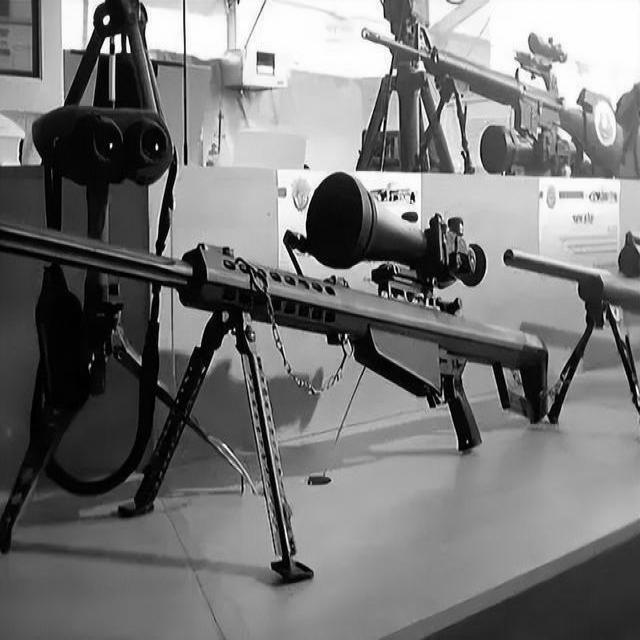gun: (0, 219, 548, 581), (350, 15, 633, 178), (503, 225, 640, 431)
